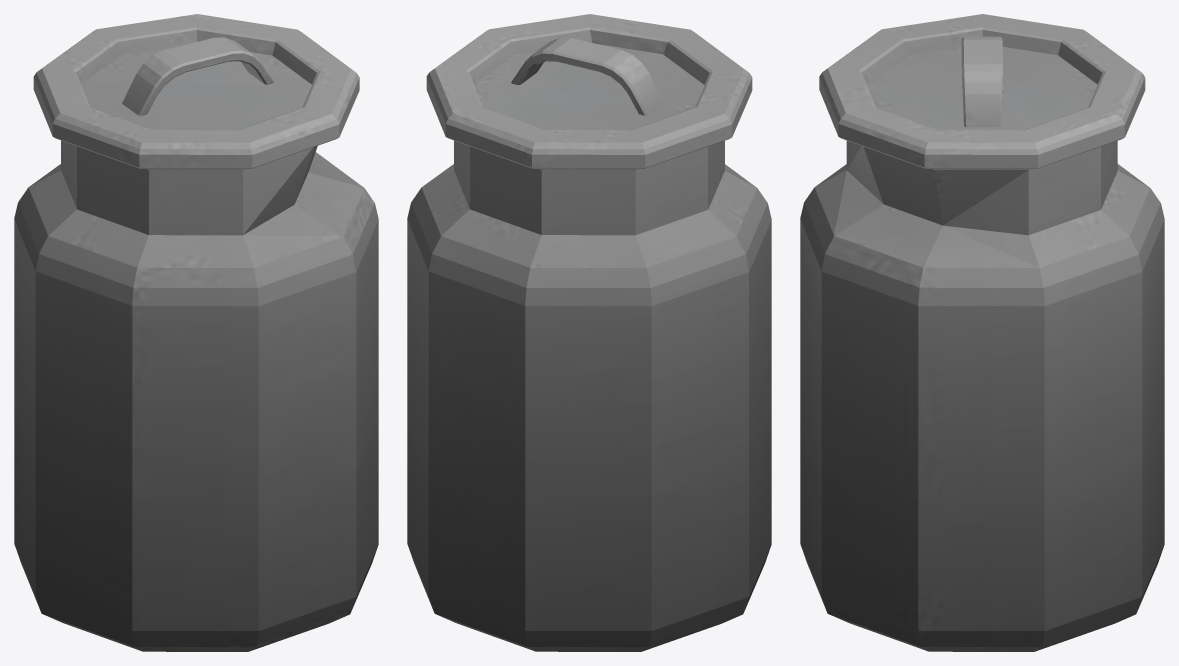
Rendered from milk_can.glb.
3 views of the same model, side by side, from view 1: azimuth 30°, elevation 25°; view 2: azimuth 150°, elevation 25°; view 3: azimuth 270°, elevation 25° (orthographic).
Visible parts, largest first — view 1: milk_can; view 2: milk_can; view 3: milk_can.
Part boxes in pixels (<box>): milk_can: <box>14,14,378,651</box>; milk_can: <box>407,14,771,651</box>; milk_can: <box>800,14,1164,651</box>.
Size of the model in its own units: 0.3016 by 0.5 by 0.306.
Materials: 1 (1 with a texture image).
